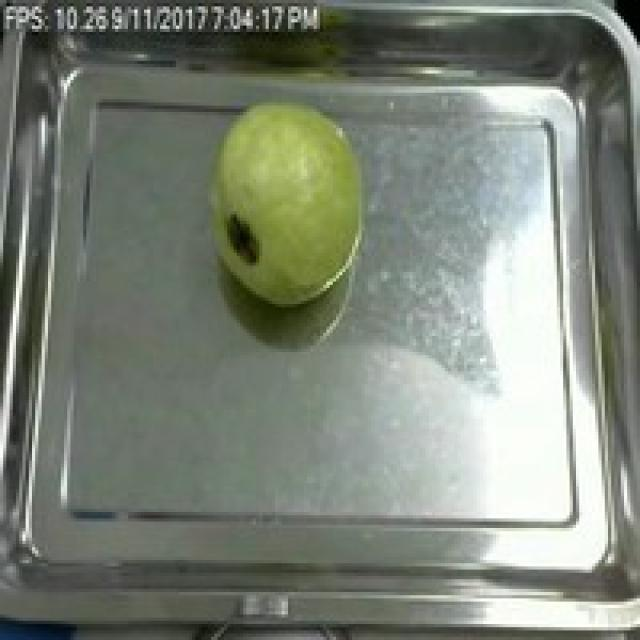Fruit: (198, 86, 378, 317)
